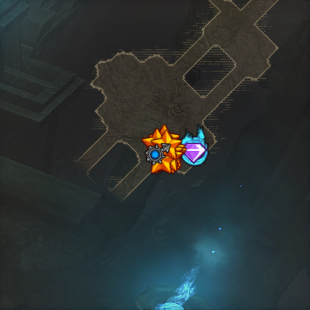Urushi: (180, 126, 211, 167)
